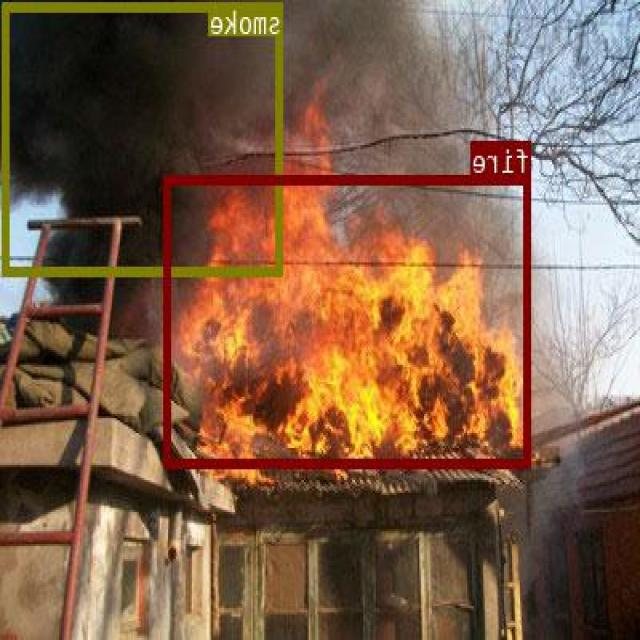fire: (166, 175, 533, 466)
smoke: (3, 1, 284, 274)
